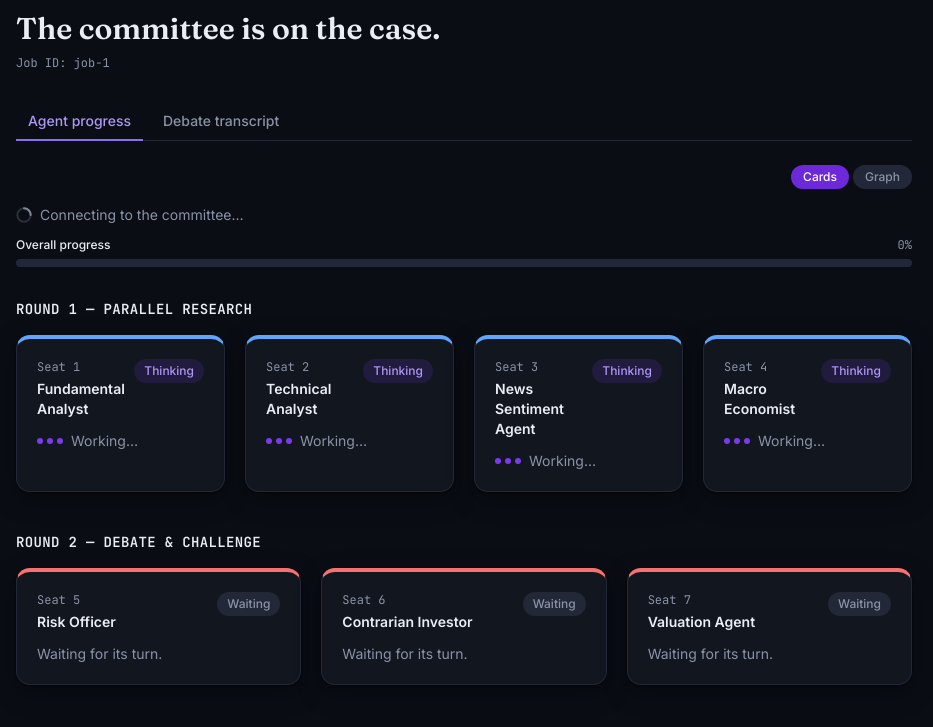
Test: AnalysisResultPage › progress view toggle (T-097) › carries events received while on the Graph view back to Cards
Click the tab "Graph".
click(882, 177)  # box 853,165 -> 912,189
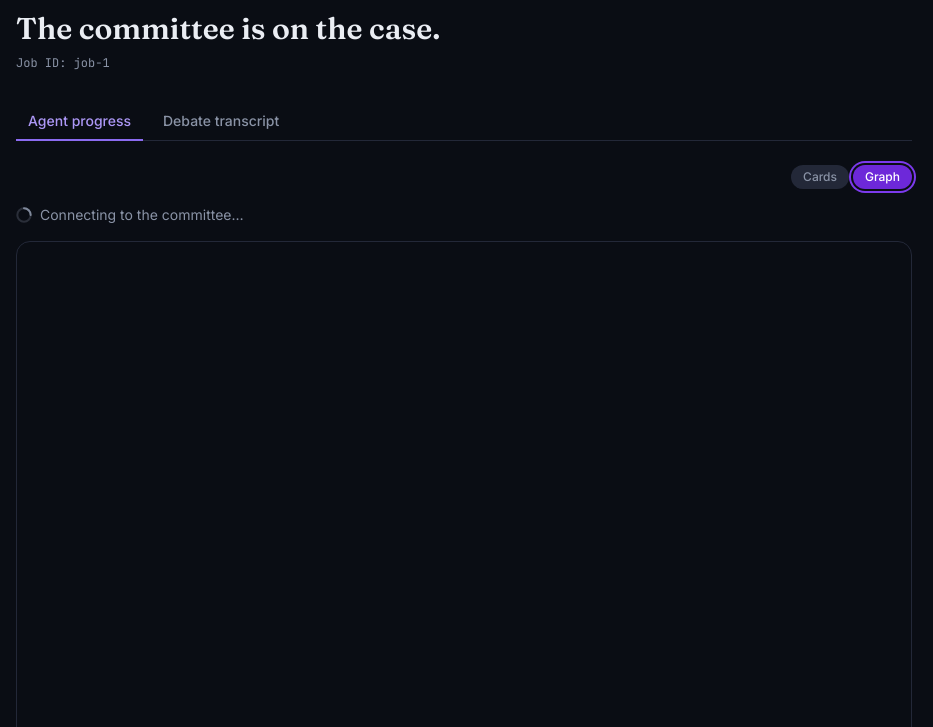
Click the tab "Cards".
click(820, 177)  # box 791,165 -> 849,189
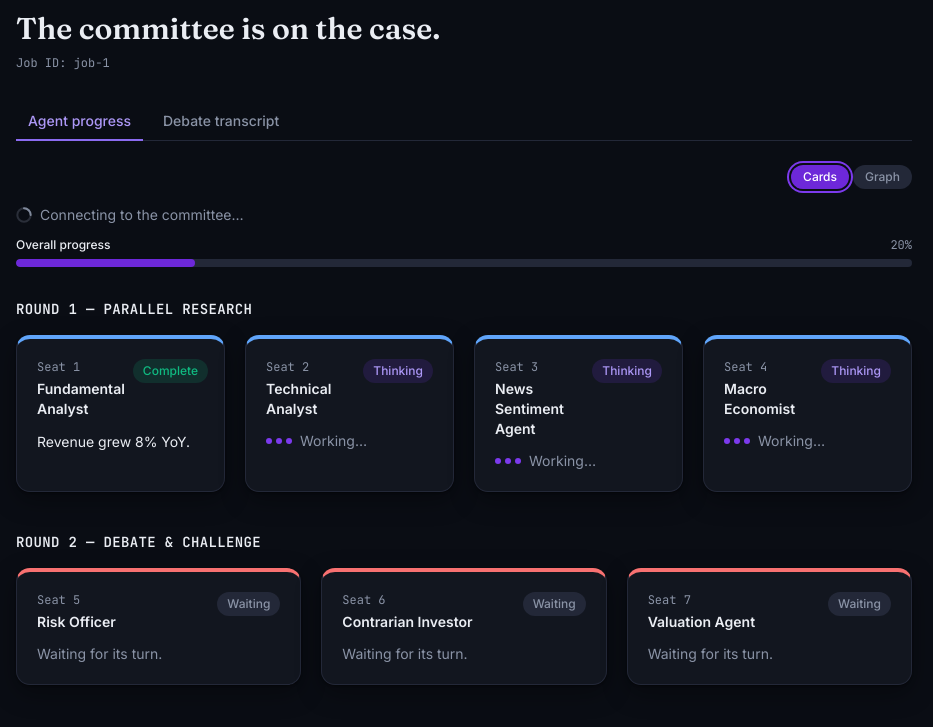
Now the text "Revenue grew 8% YoY." is shown, box 37,431 -> 204,454
